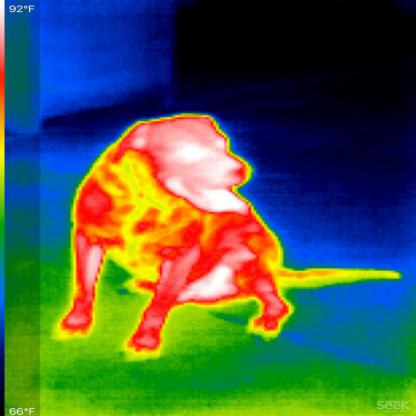dog: (59, 110, 401, 358)
